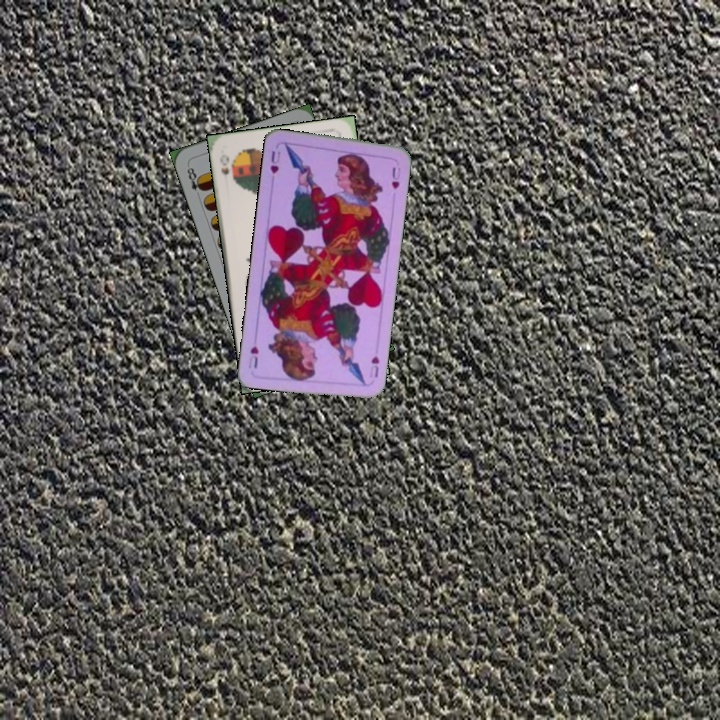E8: (183, 161, 207, 200)
HU: (266, 147, 283, 176), (367, 352, 382, 380)
SO: (215, 150, 236, 185)
